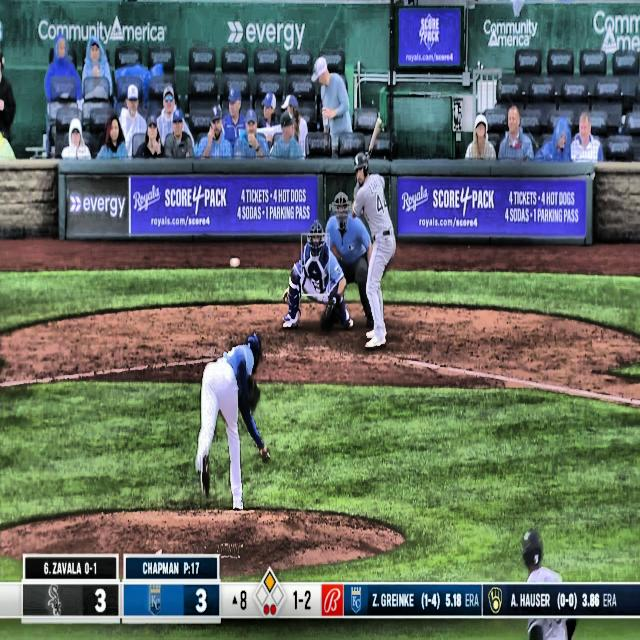baseball: (229, 256, 240, 269)
